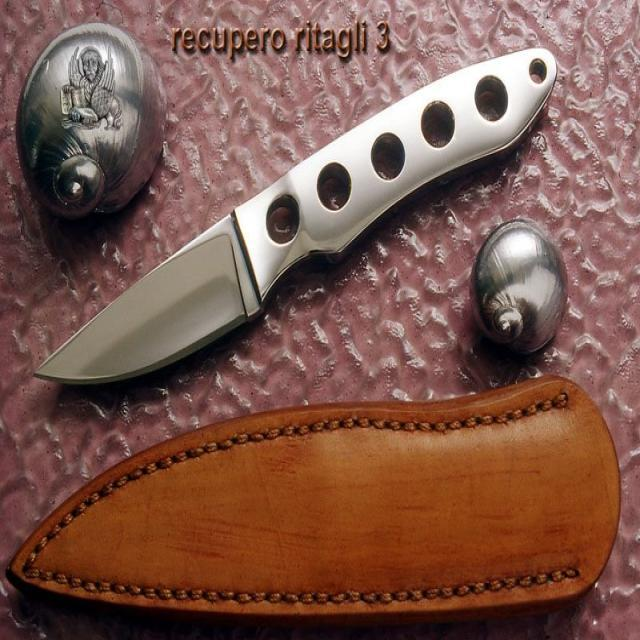Pisau: (27, 32, 564, 390)
